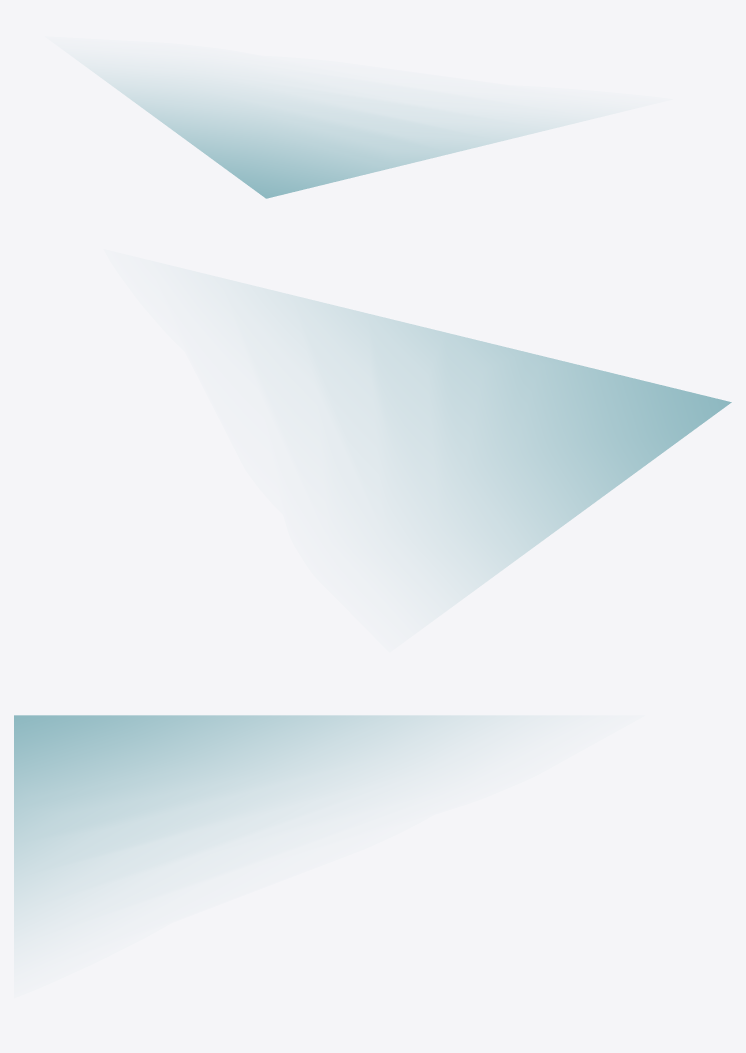
3 renders of one model, top to bottom at view 1: azimuth 30°, elevation 25°; view 2: azimuth 150°, elevation 25°; view 3: azimuth 270°, elevation 25°, orthographic. The views are drawn at different scales.
Visible parts, largest first — view 1: city; view 2: city; view 3: city.
Boxes of the visible parts, x1=… form: city: x1=92, y1=70, x2=580, y2=198; city: x1=244, y1=284, x2=731, y2=600; city: x1=14, y1=715, x2=513, y2=935.
Size of the model in its own units: 436 by 0 by 409.
